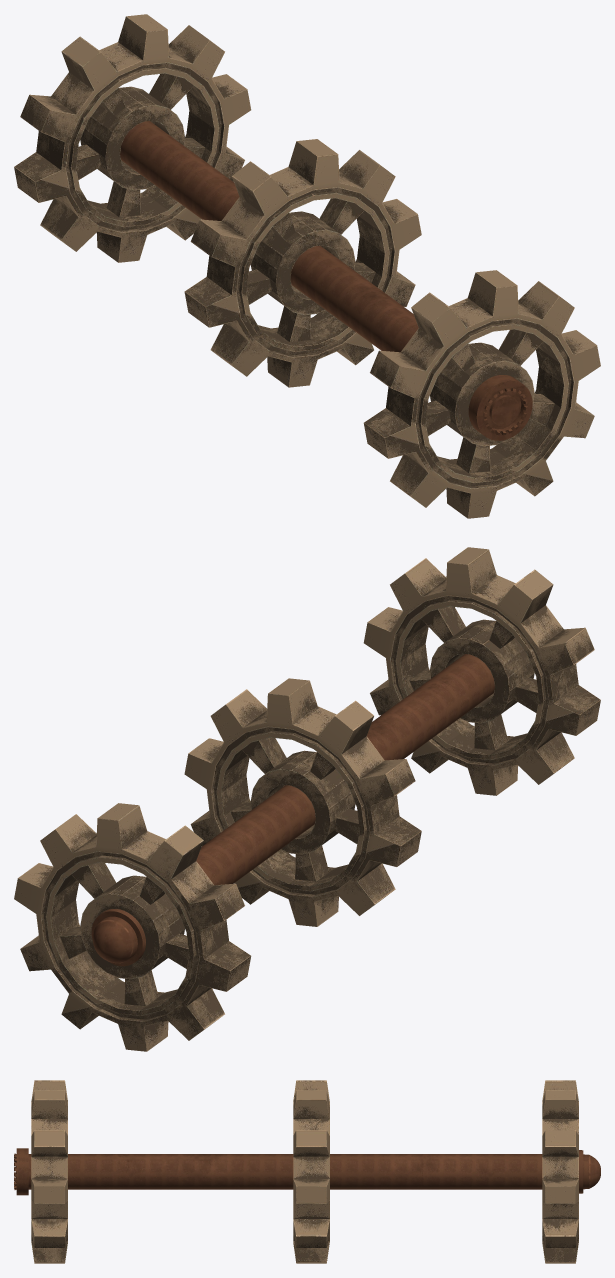
The model's file is EngranajesIglesia.obj.
The picture shows the model from 3 angles, top to bottom: view 1: azimuth 30°, elevation 25°; view 2: azimuth 150°, elevation 25°; view 3: azimuth 270°, elevation 25°; orthographic projection. The views are drawn at different scales.
Parts seen in each view (by area): view 1: defaultMaterial.002_lambert18SG, defaultMaterial.002_lambert27SG; view 2: defaultMaterial.002_lambert18SG, defaultMaterial.002_lambert27SG; view 3: defaultMaterial.002_lambert18SG, defaultMaterial.002_lambert27SG.
Part boxes in pixels (x1,y1,x2,y2): defaultMaterial.002_lambert18SG: [14, 14, 600, 518]; defaultMaterial.002_lambert27SG: [120, 121, 532, 440]; defaultMaterial.002_lambert18SG: [14, 547, 600, 1051]; defaultMaterial.002_lambert27SG: [91, 654, 494, 966]; defaultMaterial.002_lambert18SG: [31, 1080, 578, 1263]; defaultMaterial.002_lambert27SG: [14, 1148, 600, 1195].
Size of the model in its own units: 3.64 by 3.66 by 11.72.
